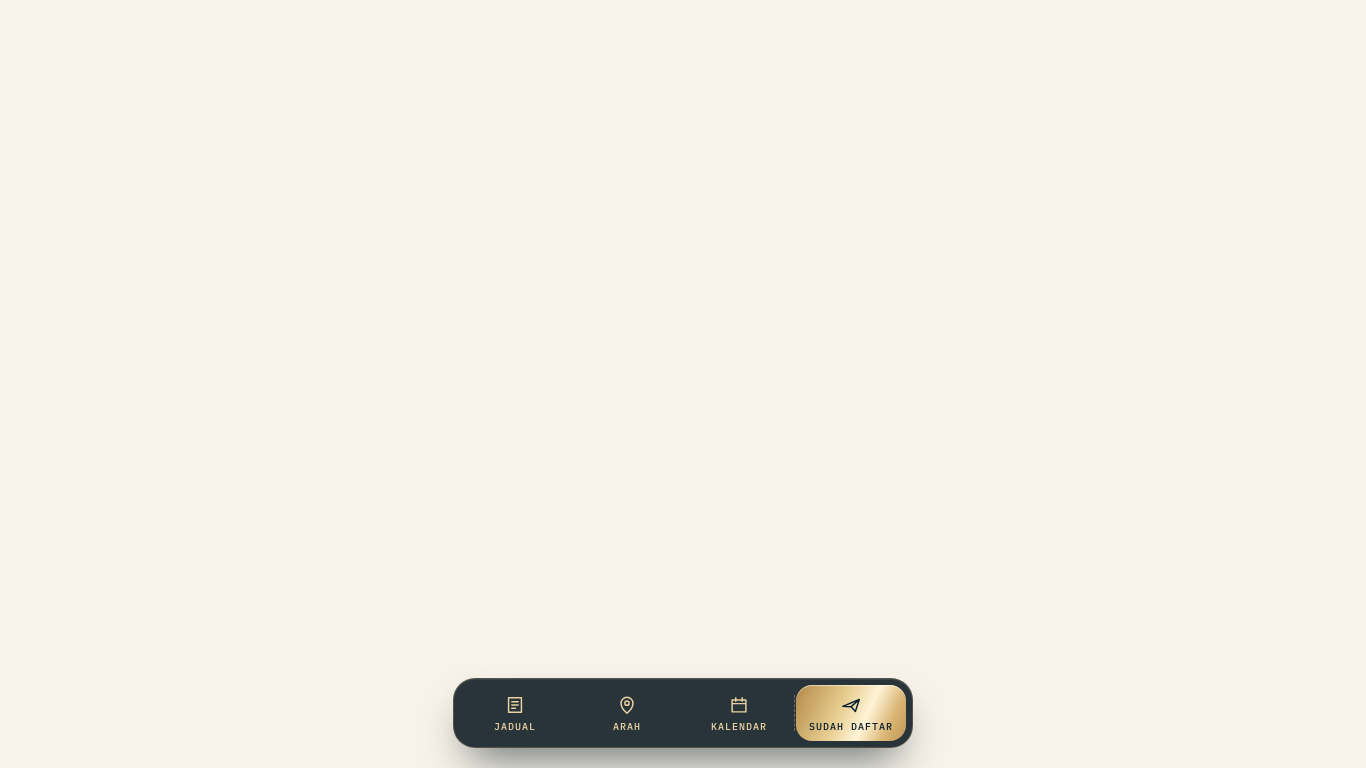
Test: BoardingDock › opens a calendar sheet listing exactly the two attending events in ms
The image size is (1366, 768).
Click the button "Kalendar" at (739, 713), box [684, 685, 794, 741]
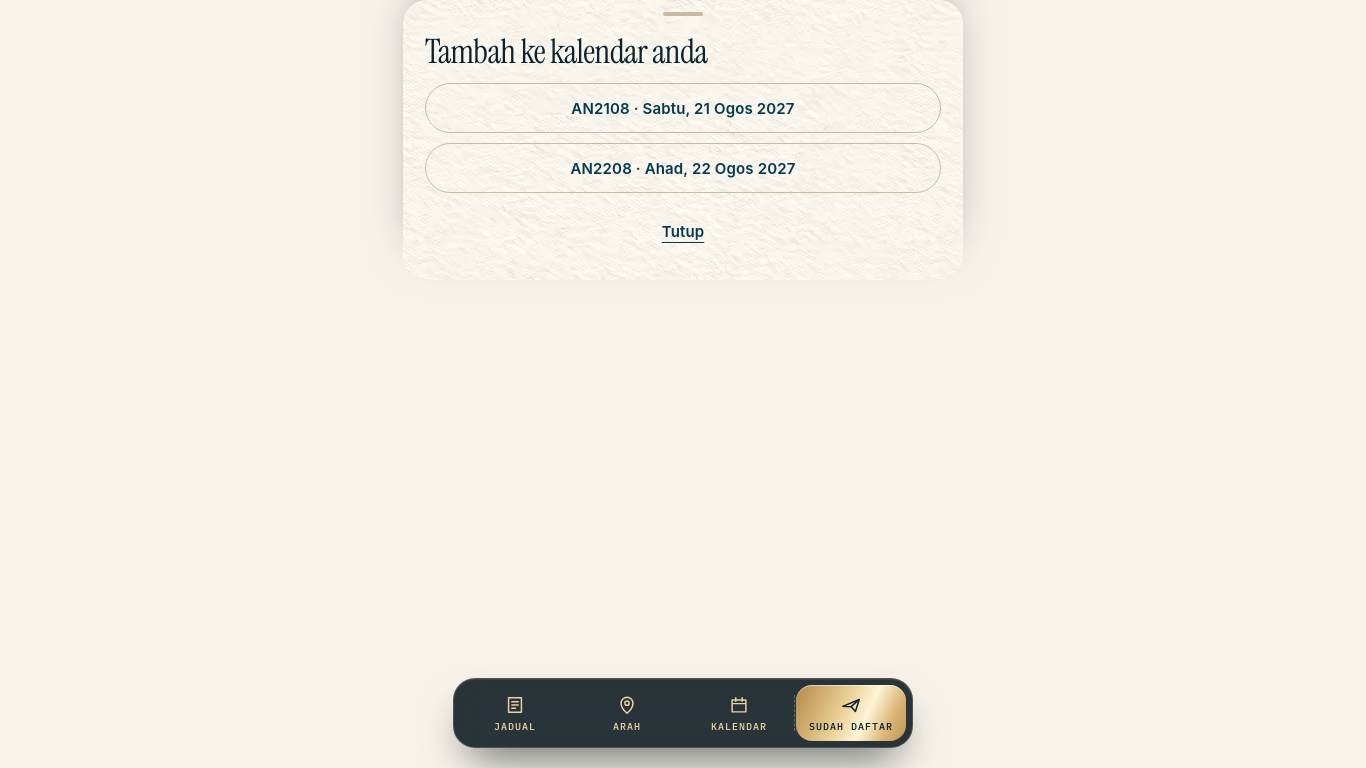
Check: the number of links is 2, box [425, 83, 941, 133]; [425, 143, 941, 193]
Check: the link "AN2108 · Sabtu, 21 Ogos 2027" is shown, box [425, 83, 941, 133]
Check: the link "AN2208 · Ahad, 22 Ogos 2027" is shown, box [425, 143, 941, 193]
